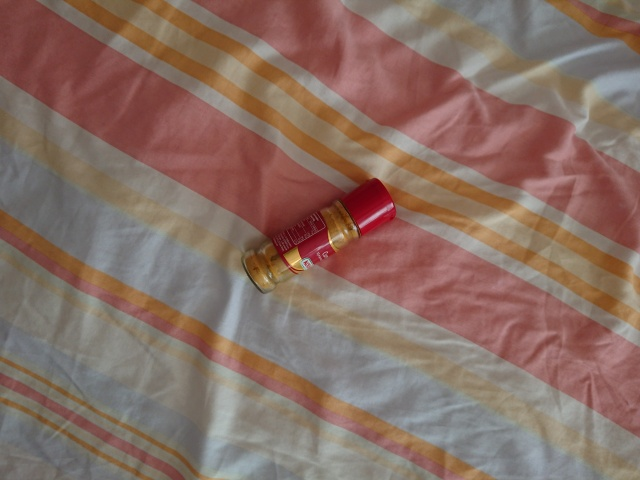Kotanyi Curry Spices Mix 70g: (239, 175, 399, 297)
